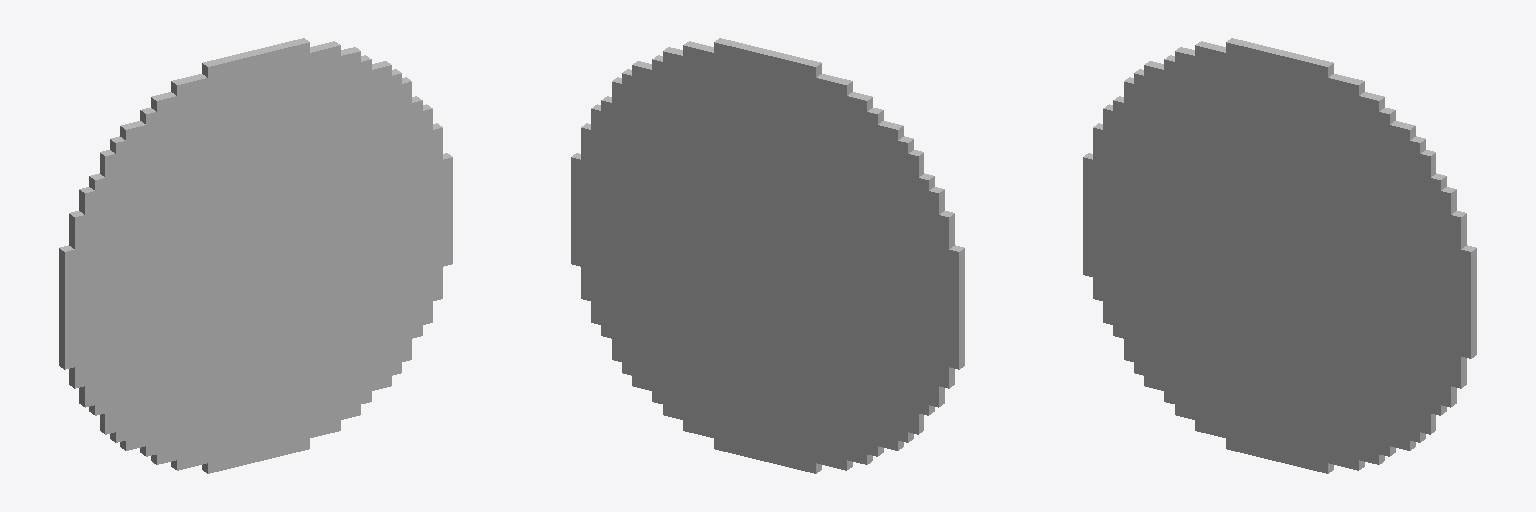
The model's file is Portal.obj.
3 renders of one model, left to right at view 1: azimuth 30°, elevation 25°; view 2: azimuth 150°, elevation 25°; view 3: azimuth 330°, elevation 25°, orthographic.
Parts seen in each view (by area): view 1: object 1; view 2: object 1; view 3: object 1.
Part boxes in pixels (left/top/right/bottom): object 1: left=59, top=38, right=452, bottom=473; object 1: left=571, top=38, right=964, bottom=473; object 1: left=1083, top=38, right=1476, bottom=473.
Bounding box in the file's own units: 3.8 × 3.8 × 0.1.